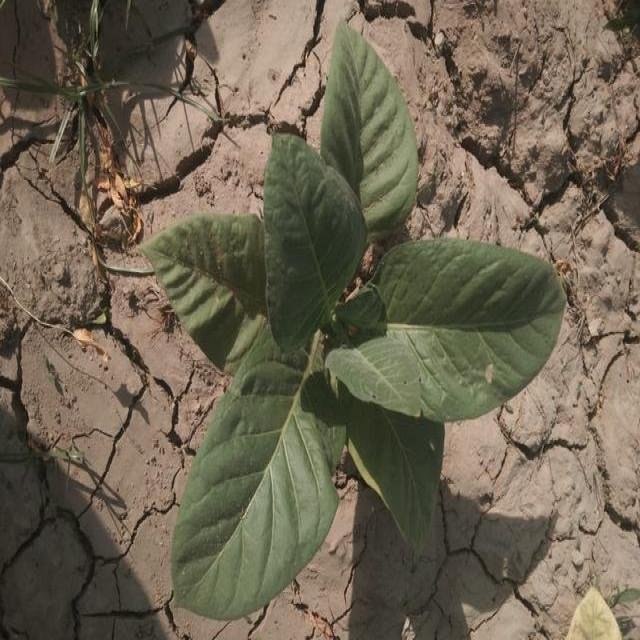crop: (138, 23, 562, 617)
